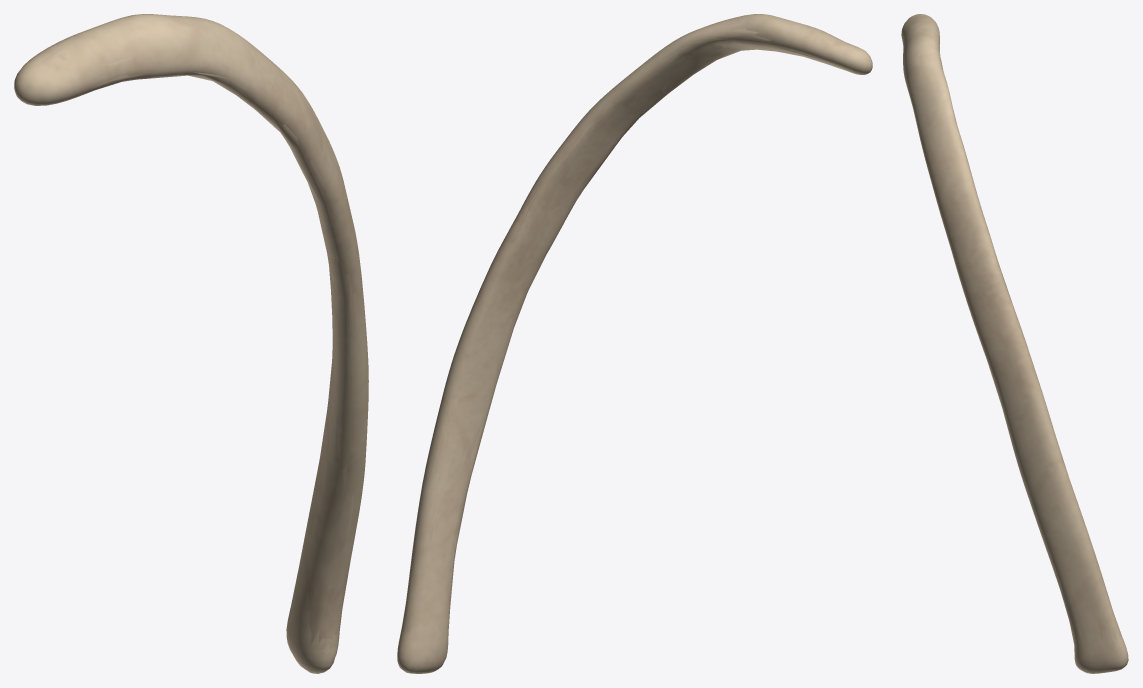
The model's file is Rib L06.fbx.
3 renders of one model, left to right at view 1: azimuth 30°, elevation 25°; view 2: azimuth 150°, elevation 25°; view 3: azimuth 270°, elevation 25°, orthographic. The views are drawn at different scales.
Parts seen in each view (by area): view 1: Rib L06 high, Rib L06, Rib L06 low; view 2: Rib L06, Rib L06 low, Rib L06 high; view 3: Rib L06 high, Rib L06, Rib L06 low.
Part boxes in pixels (box(x1,y1,x2,y2)): Rib L06 high: box(14, 14, 368, 672); Rib L06: box(14, 14, 367, 673); Rib L06 low: box(81, 58, 359, 644); Rib L06: box(397, 14, 872, 673); Rib L06 low: box(402, 23, 837, 634); Rib L06 high: box(397, 14, 872, 673); Rib L06 high: box(901, 14, 1126, 673); Rib L06: box(901, 14, 1128, 673); Rib L06 low: box(903, 39, 1120, 649).
Size of the model in its own units: 13.52 by 23.29 by 8.91.
Materials: 1 (1 with a texture image).
